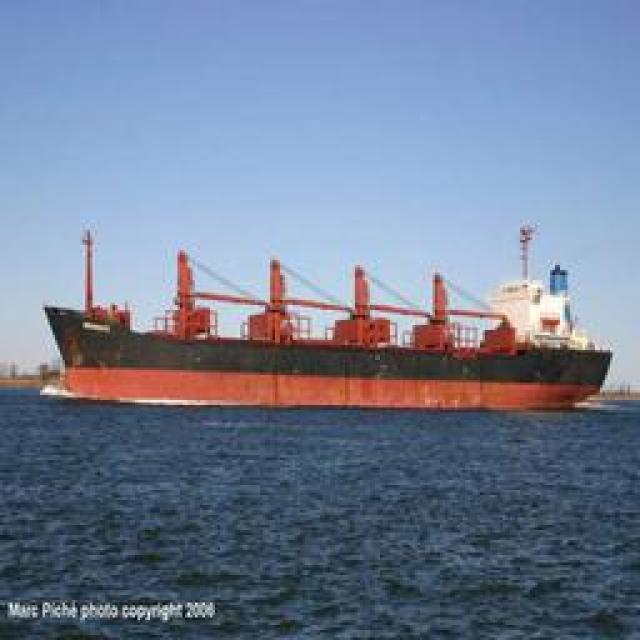CIV_Ship: (42, 221, 622, 414)
